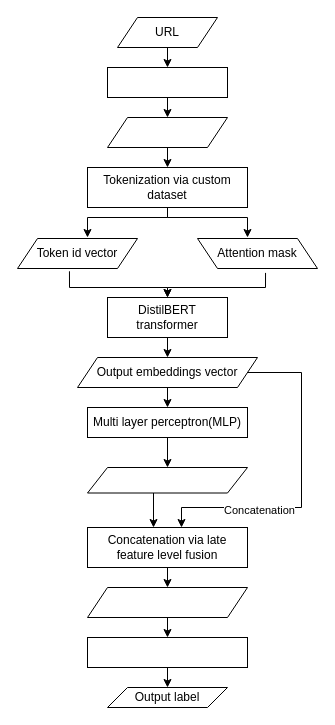
Some shapes in this 335 by 725 pixel diagram are drawn without their labels. Here are the shapes that lost their labels. From the top down, the centre of each, then its label:
At (167,82): "Pre processing".
At (167,132): "Processed URL".
At (167,479): "Output feature vector".
At (167,602): "Concatenated vector".
At (167,652): "Final classification layer".
